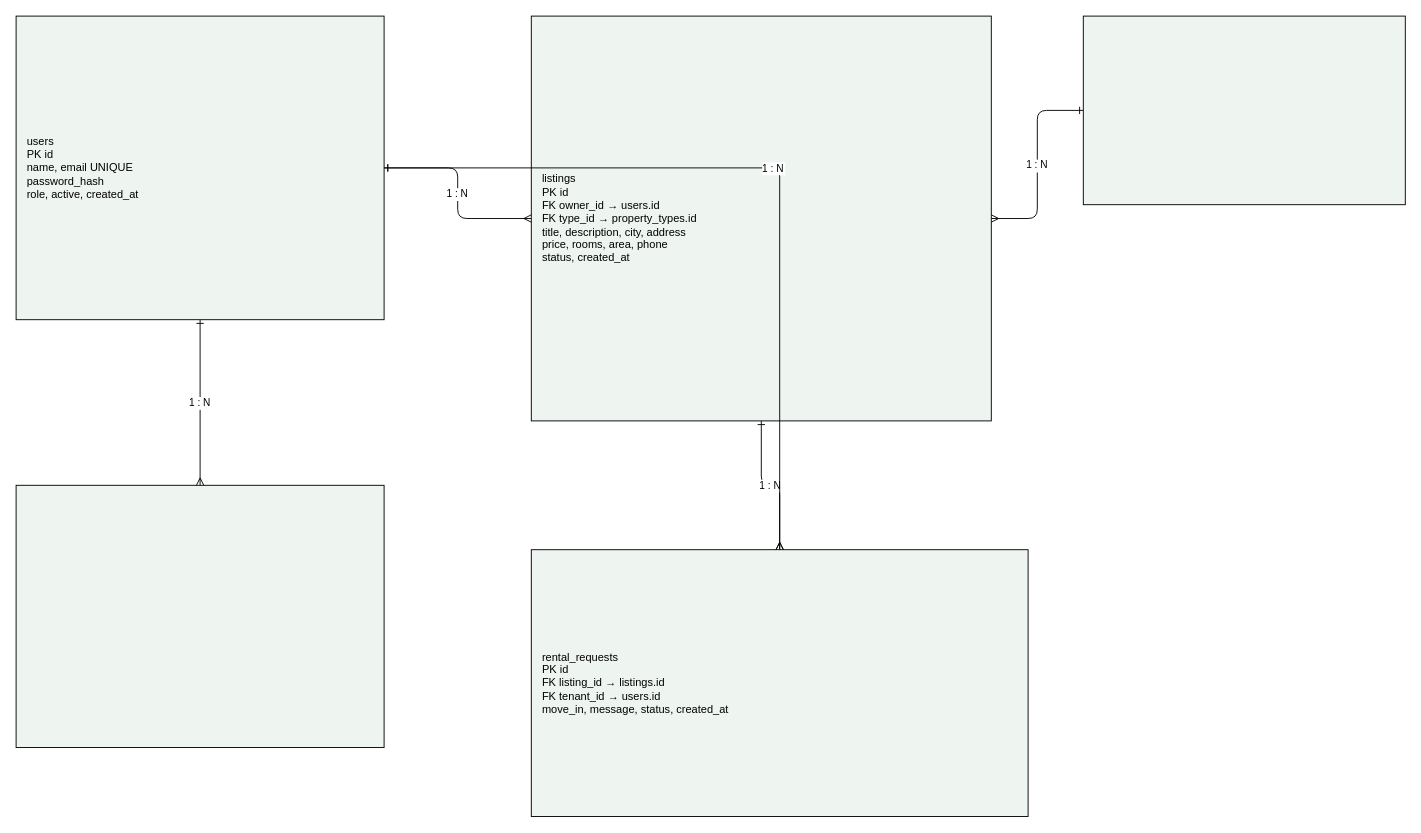
Some shapes in this 1421 by 833 pixel diagram are drawn without their labels. The centre of each missing label's shape, as x and y in pixels:
"property_types PK id name UNIQUE" belongs at pixel 1243 110.
"sessions PK token_hash FK user_id → users.id csrf_token expires_at" belongs at pixel 199 616.
